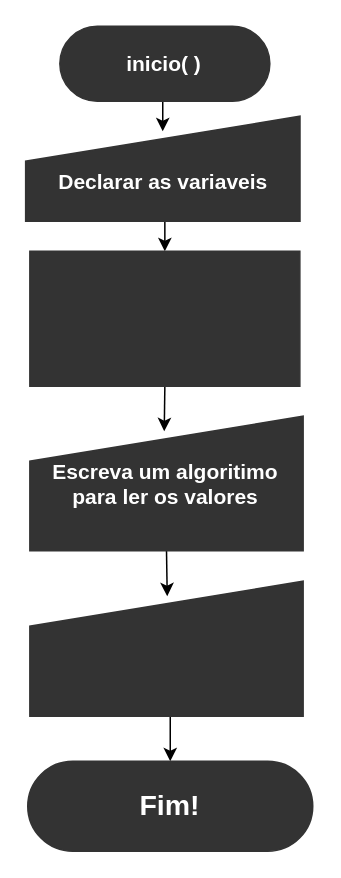
Image size: 341x878. Some labels were removed from this diagram. The centre of each missing label's shape, as x and y in pixels:
"inteiro base = 0 inteiro altura = 0 inteiro area = 0" belongs at [164,318].
"Multiplique a base pela altura" belongs at [165,648].
